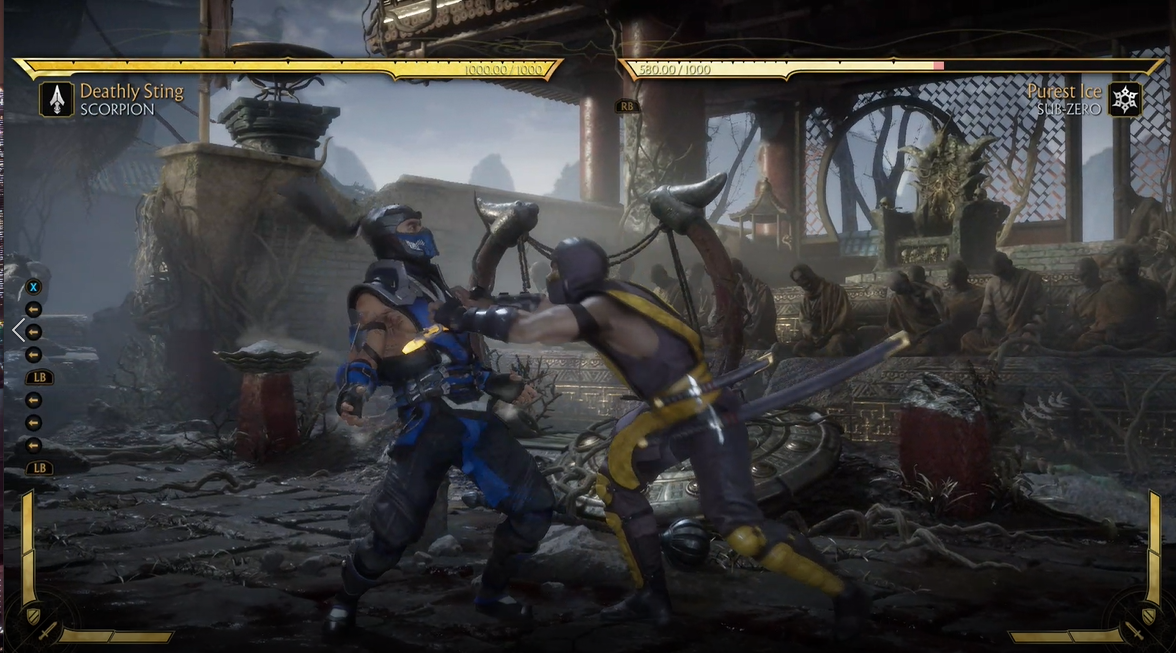grab: (305, 185, 916, 632)
